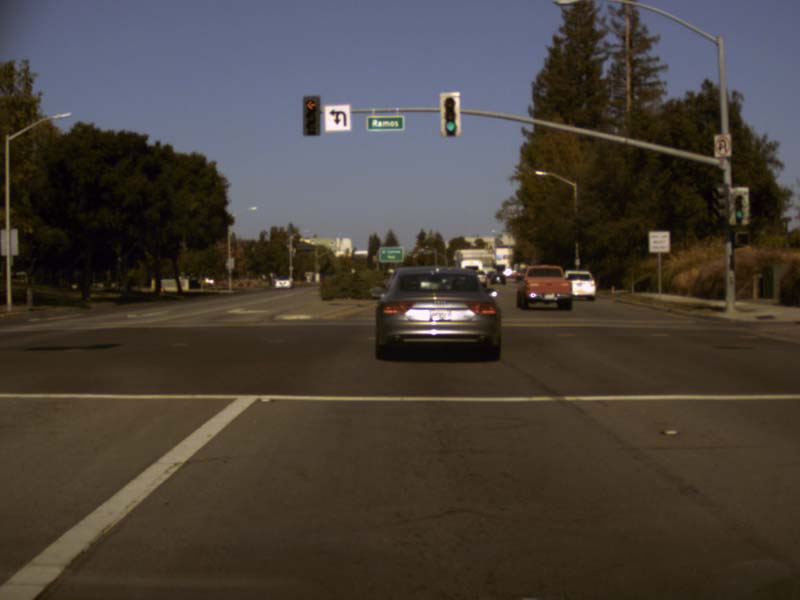Green: (439, 92, 461, 135), (732, 192, 746, 223)
Red: (303, 96, 319, 134)
